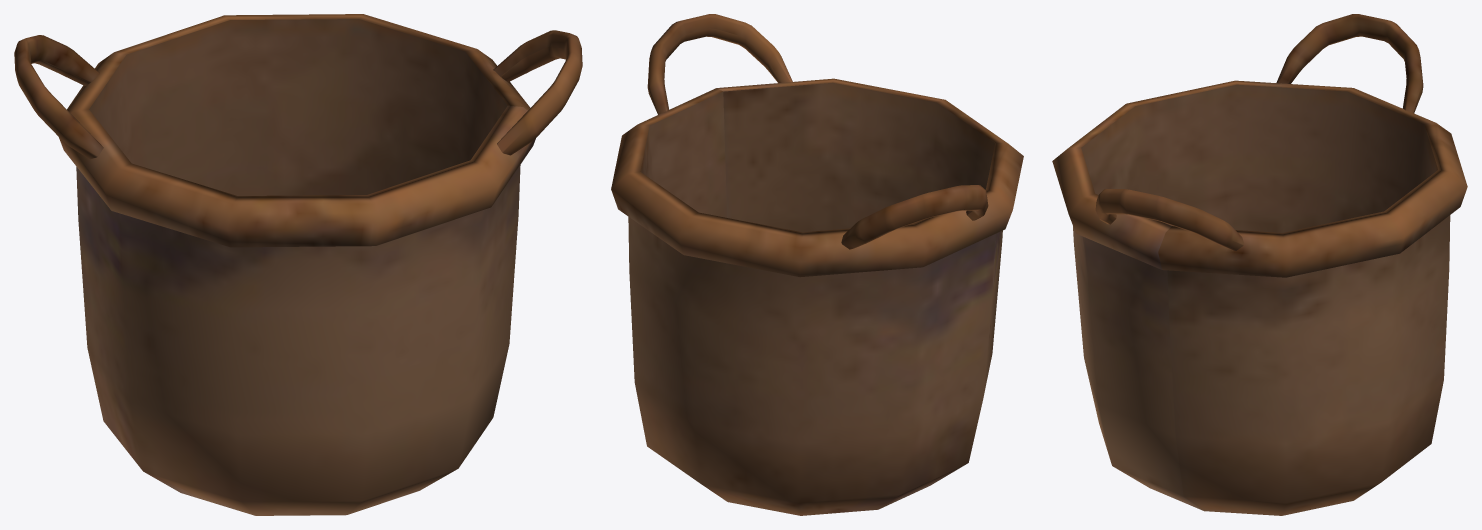
File: pot3.fbx
3 views of the same model, side by side, from view 1: azimuth 30°, elevation 25°; view 2: azimuth 150°, elevation 25°; view 3: azimuth 270°, elevation 25° (orthographic). The views are drawn at different scales.
Parts seen in each view (by area): view 1: Strove.004; view 2: Strove.004; view 3: Strove.004.
Boxes of the visible parts, left/top/right/bottom form: Strove.004: left=14, top=14, right=582, bottom=515; Strove.004: left=611, top=14, right=1023, bottom=515; Strove.004: left=1052, top=14, right=1467, bottom=515.
Size of the model in its own units: 29.53 by 25.97 by 26.78.
Materials: 1 (1 with a texture image).
